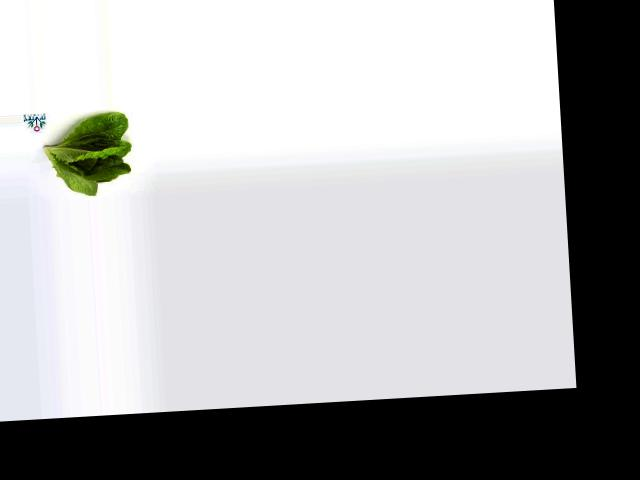lettuce: (41, 112, 137, 200)
